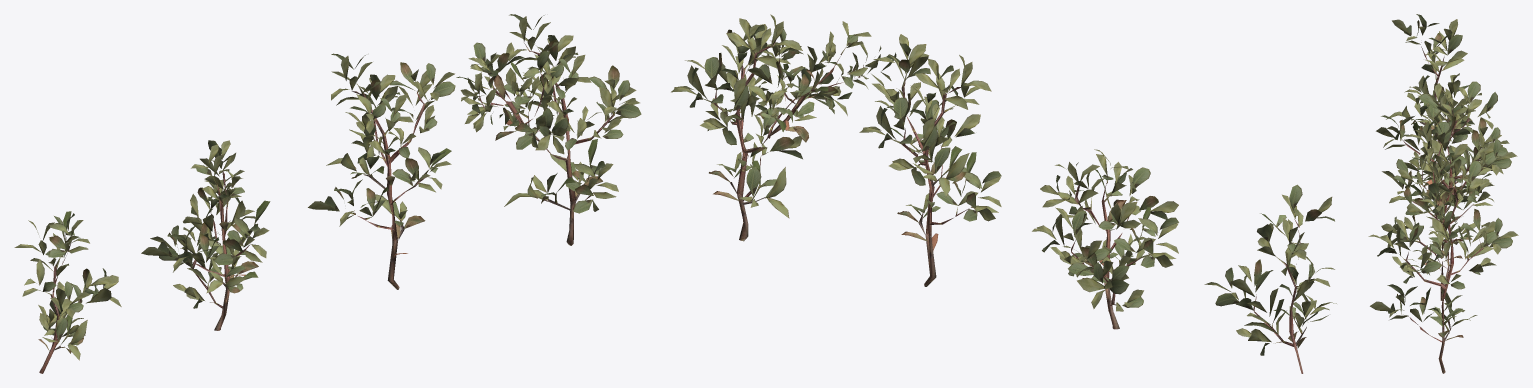
3 views of the same model, side by side, from view 1: azimuth 30°, elevation 25°; view 2: azimuth 150°, elevation 25°; view 3: azimuth 270°, elevation 25° (orthographic). The views are drawn at different scales.
Parts seen in each view (by area): view 1: shrub_04; view 2: shrub_04; view 3: shrub_04.
Boxes of the visible parts, x1,y1,x2,y2 form: shrub_04: (14, 14, 641, 373); shrub_04: (671, 14, 1336, 373); shrub_04: (1368, 14, 1518, 373).
Size of the model in its own units: 0.5837 by 0.2192 by 0.1461.
1 material, 1 textured.
